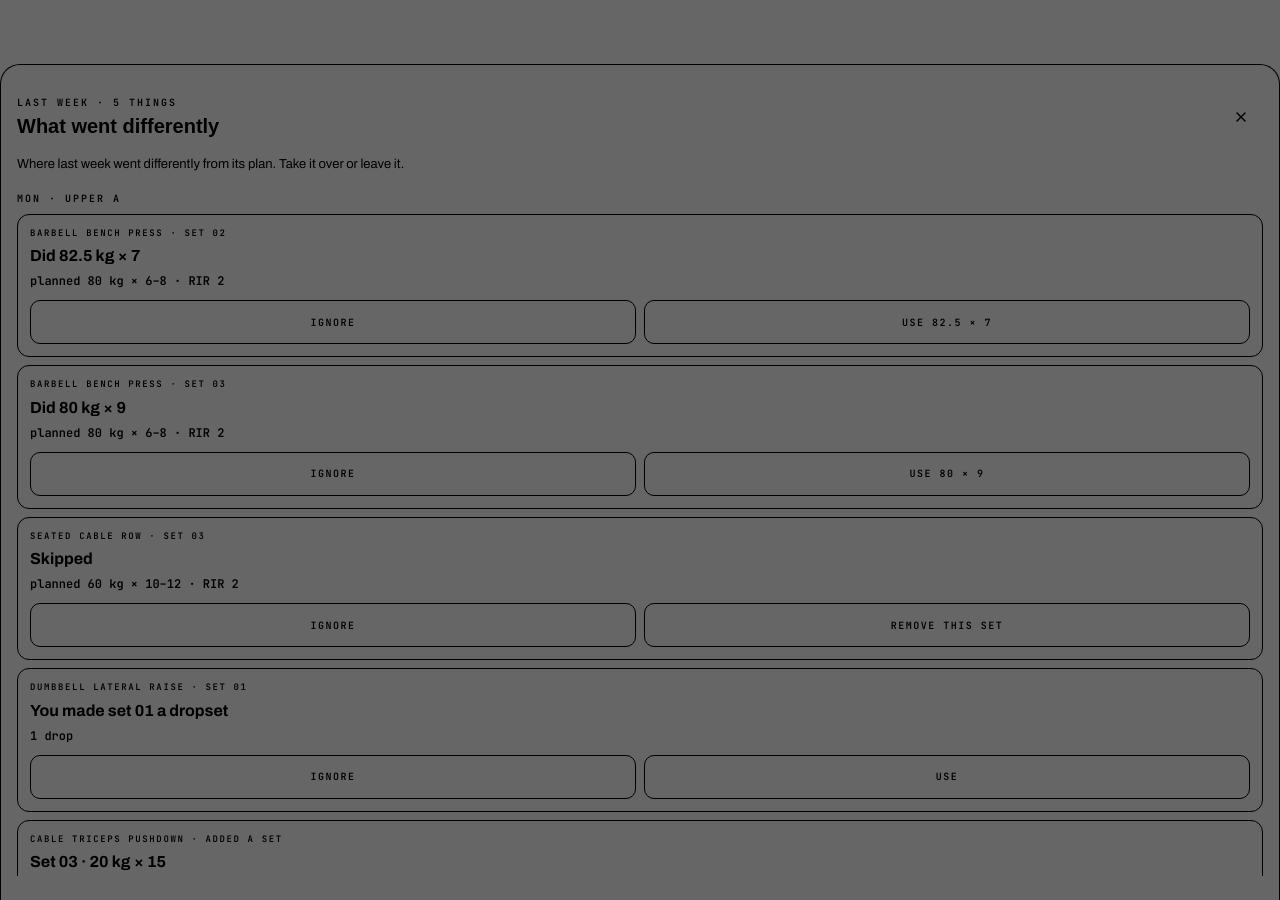
Test: W: each button writes what the board says and the item is gone for good › IGNORE on the reps item sends the decision alone (ignored) and the plan is as it was
Expected: the text "MON · UPPER A" is shown, left=17, top=192, right=121, bottom=204
Click the button "IGNORE" below "Did 80 kg × 9" at (333, 474), box left=30, top=452, right=636, bottom=496
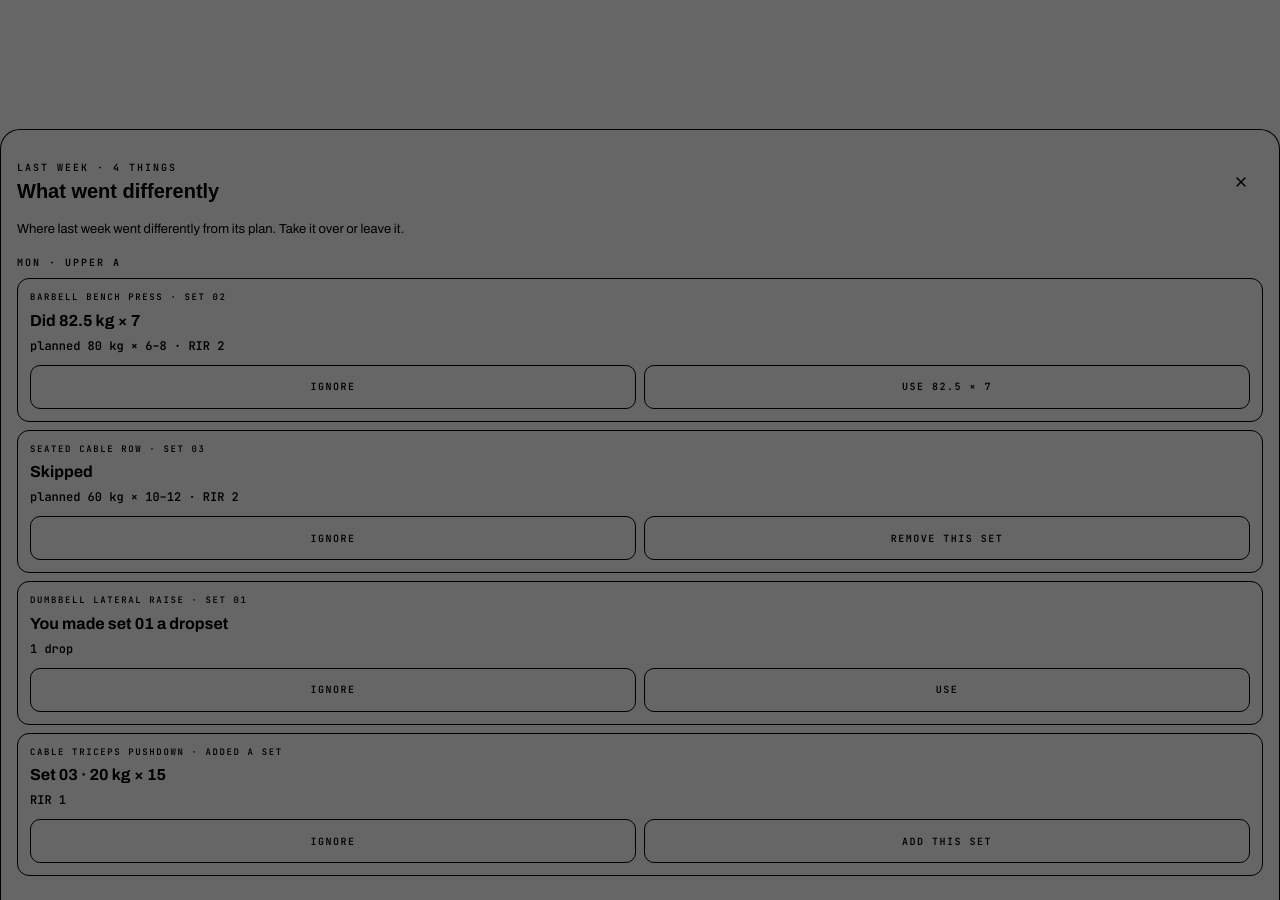
Expected: the dialog shows "LAST WEEK · 4 THINGS", left=17, top=160, right=177, bottom=174
